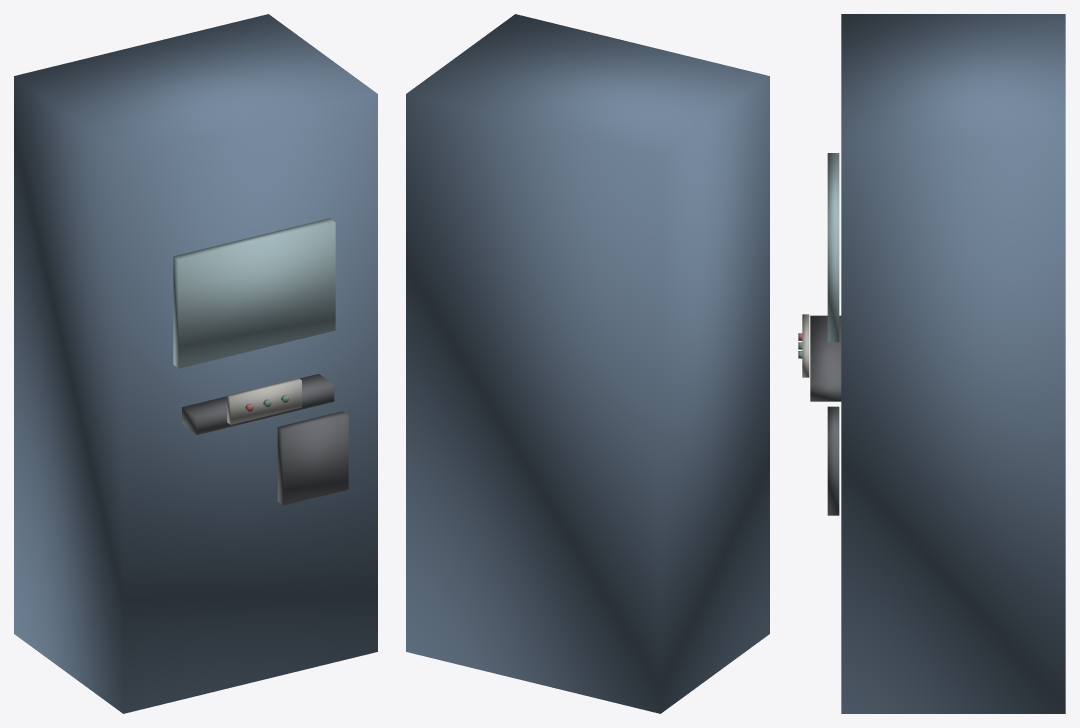
Rendered from atm__reinforced.glb.
3 renders of one model, left to right at view 1: azimuth 30°, elevation 25°; view 2: azimuth 150°, elevation 25°; view 3: azimuth 270°, elevation 25°, orthographic. The views are drawn at different scales.
Visible parts, largest first — view 1: world; view 2: world; view 3: world.
Boxes of the visible parts, left/top/right/bottom form: world: left=14, top=14, right=377, bottom=713; world: left=406, top=14, right=769, bottom=713; world: left=798, top=14, right=1065, bottom=713.
Size of the model in its own units: 0.8034 by 1.68 by 0.7117.
